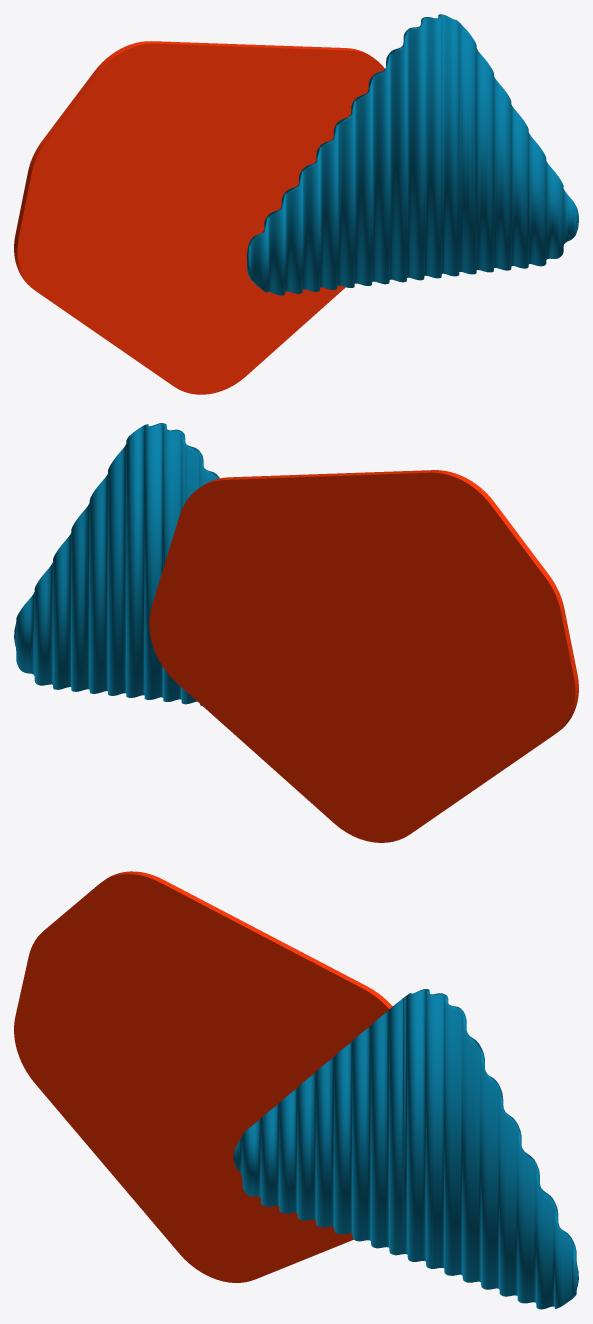
Rendered from Storey.glb.
3 views of the same model, one above another, from view 1: azimuth 30°, elevation 25°; view 2: azimuth 150°, elevation 25°; view 3: azimuth 330°, elevation 25° (orthographic). The views are drawn at different scales.
Parts seen in each view (by area): view 1: Hex, Triangle; view 2: Hex, Triangle; view 3: Hex, Triangle.
Part boxes in pixels (x1=…): Hex: x1=14, y1=41, x2=384, y2=394; Triangle: x1=247, y1=14, x2=578, y2=295; Hex: x1=149, y1=470, x2=578, y2=842; Triangle: x1=14, y1=423, x2=219, y2=705; Hex: x1=14, y1=871, x2=392, y2=1282; Triangle: x1=233, y1=989, x2=578, y2=1309.
Size of the model in its own units: 0.1675 by 0.107 by 0.00922.
